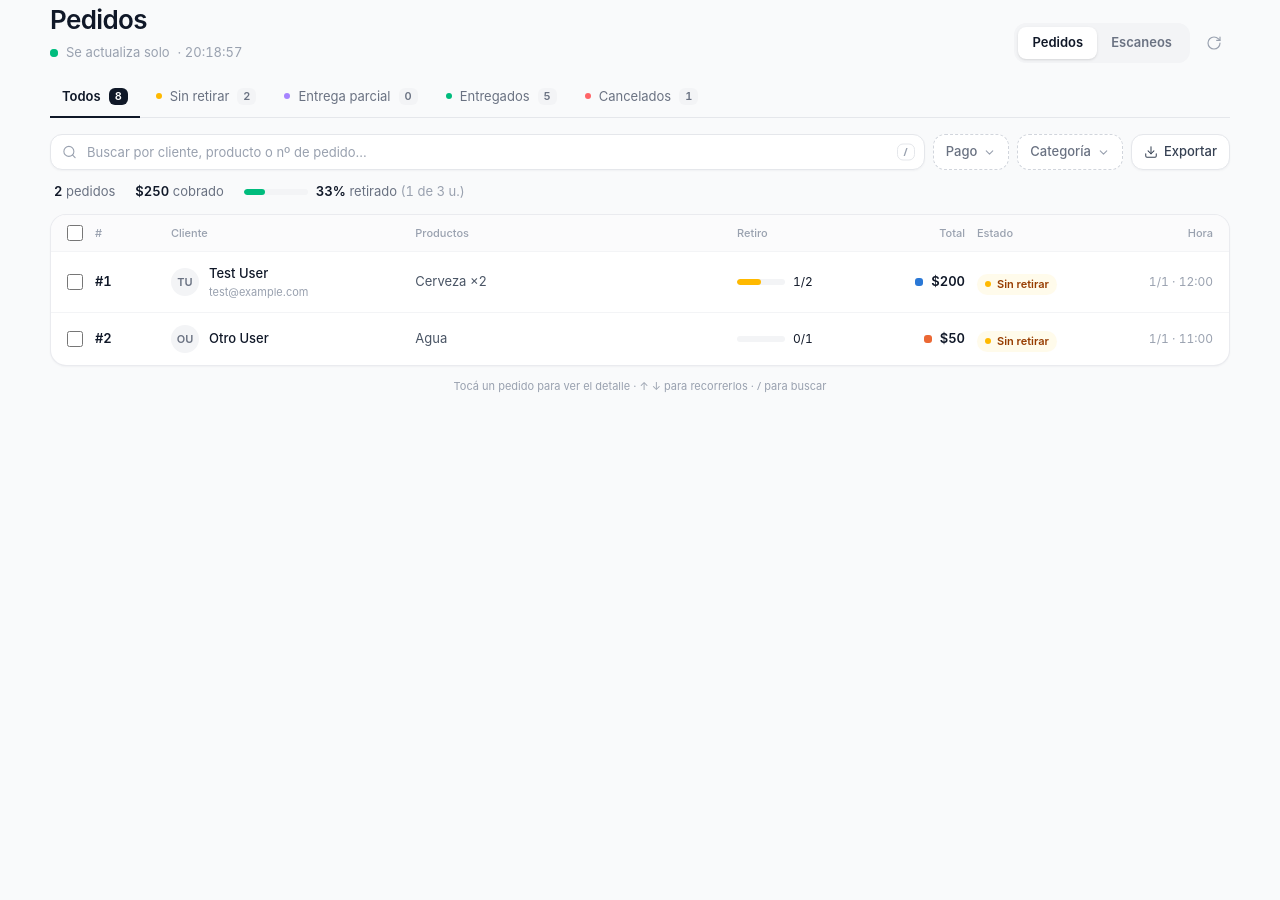
Scenario: OrdersView › selección múltiple › cancela en lote después de confirmar y muestra el resultado
Click the checkbox named "Seleccionar todos los pedidos de la página": (75, 233) [67,225,83,241]
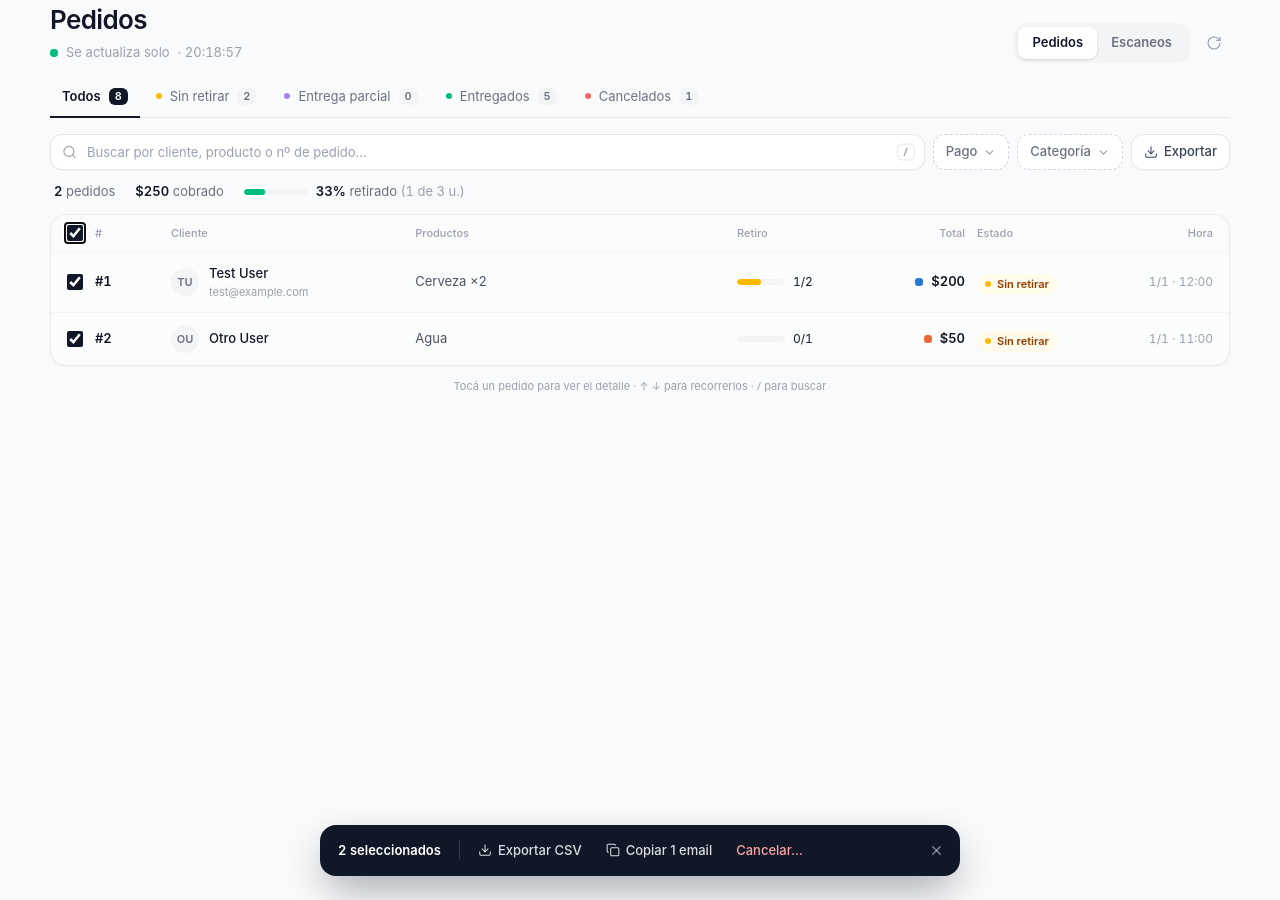
Click the button "Cancelar…": (770, 850) [726,832,813,868]
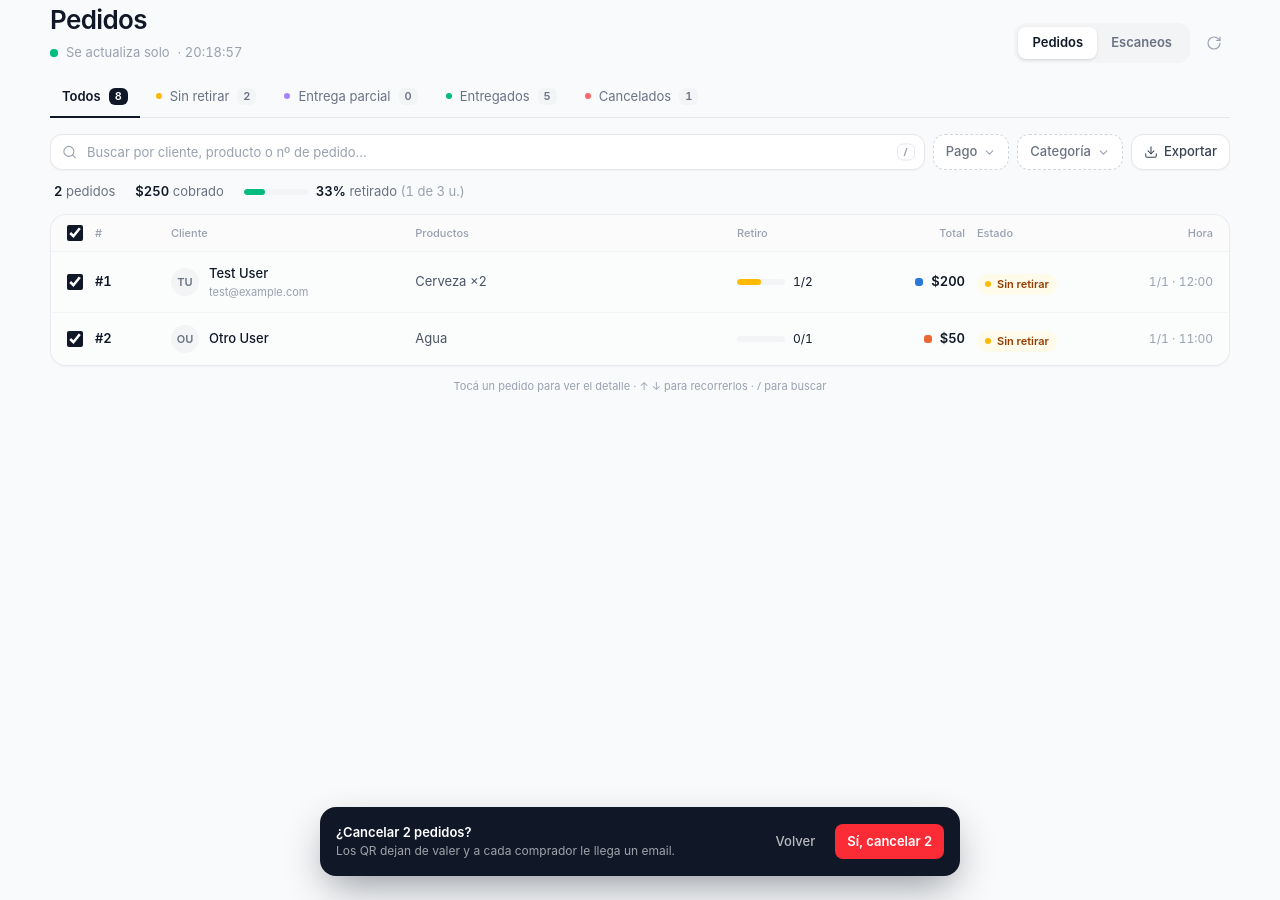
Expected: the text "¿Cancelar 2 pedidos?" is shown, [336,824,472,840]
Click the button "Sí, cancelar 2": (890, 841) [835,824,944,859]
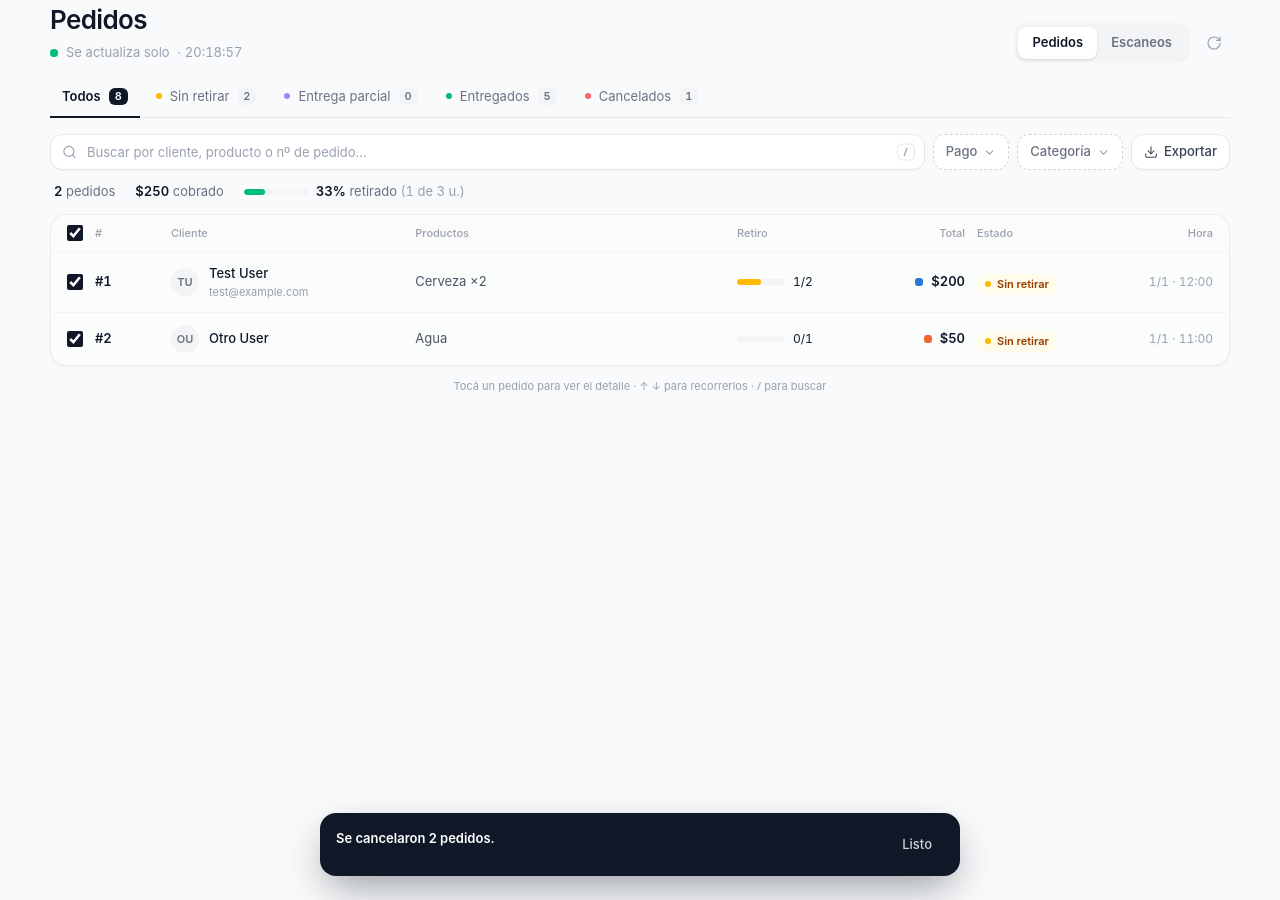
Expected: the text "Se cancelaron 2 pedidos." is shown, [336,830,495,846]
